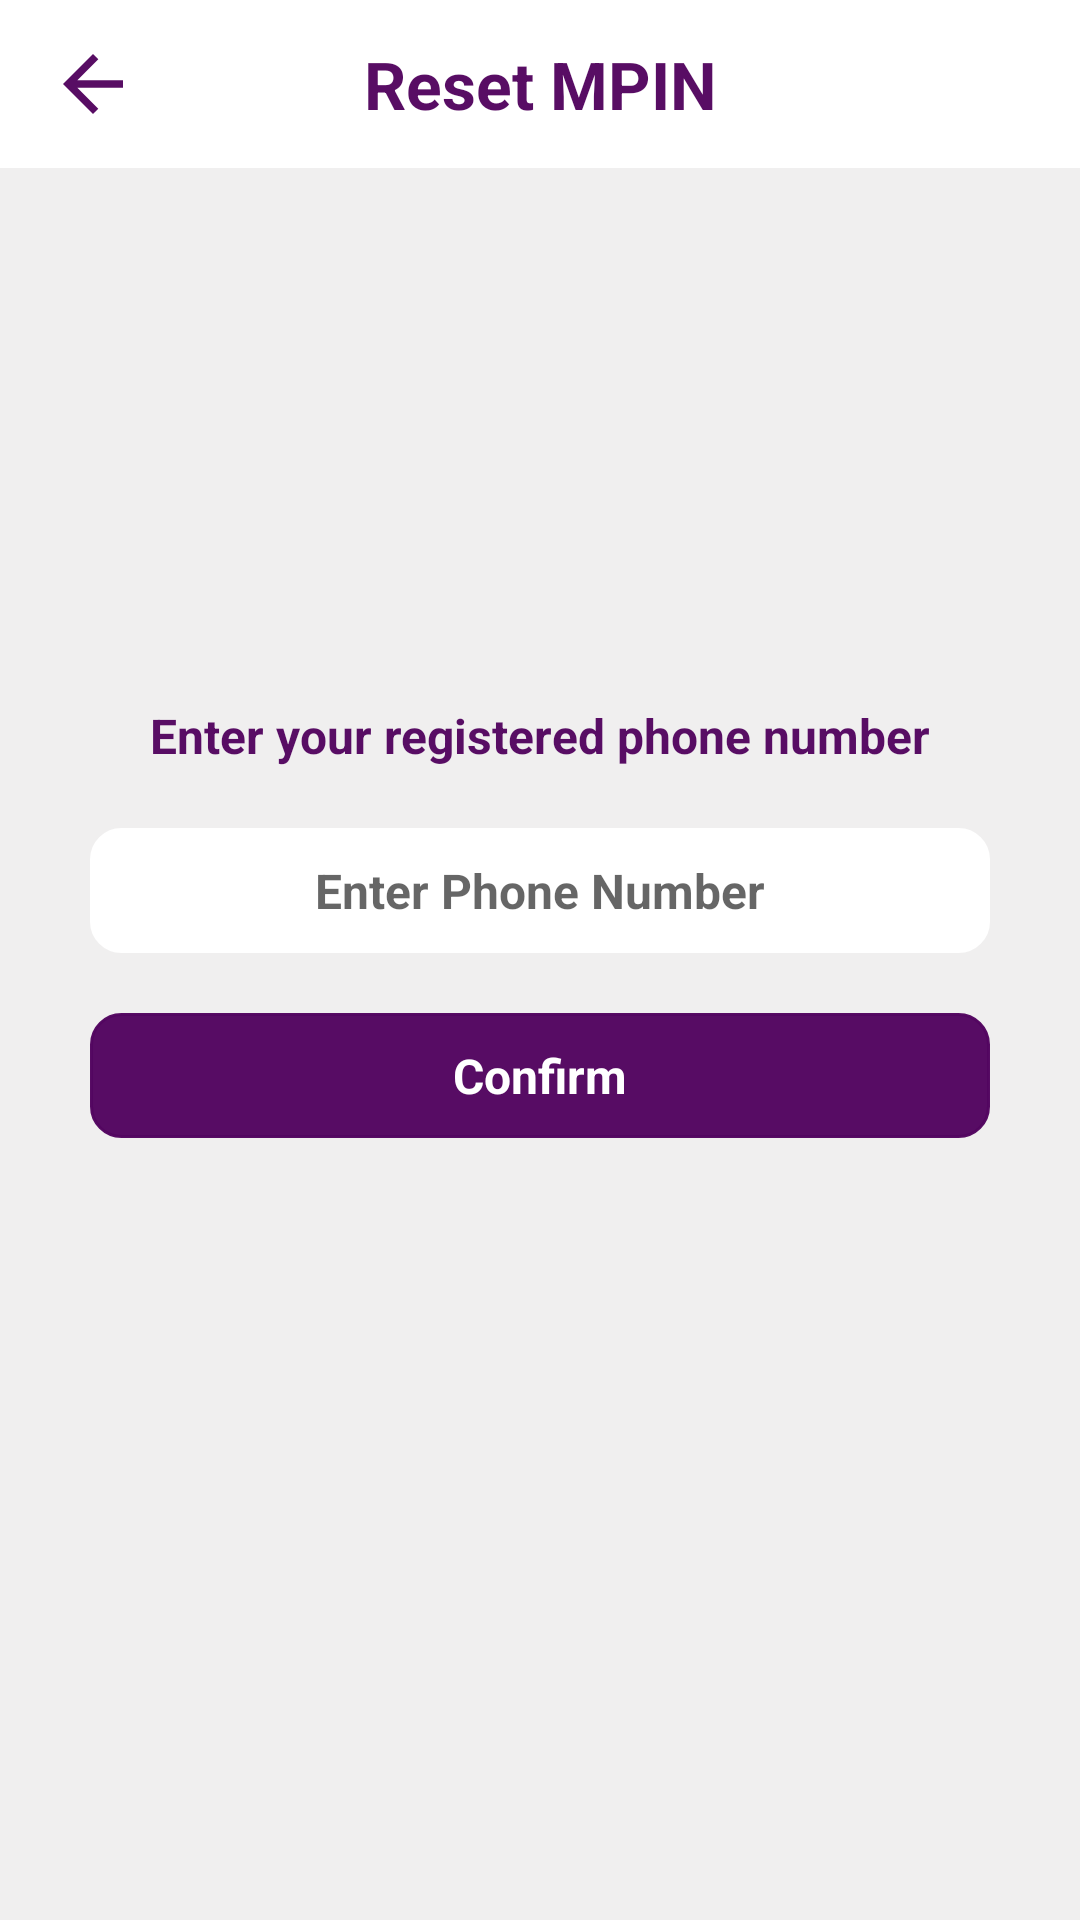

Screen size 1080*1920. Icon name, then its box in pixels as (x1, y1, x2, y2):
back: (63, 54, 123, 114)
